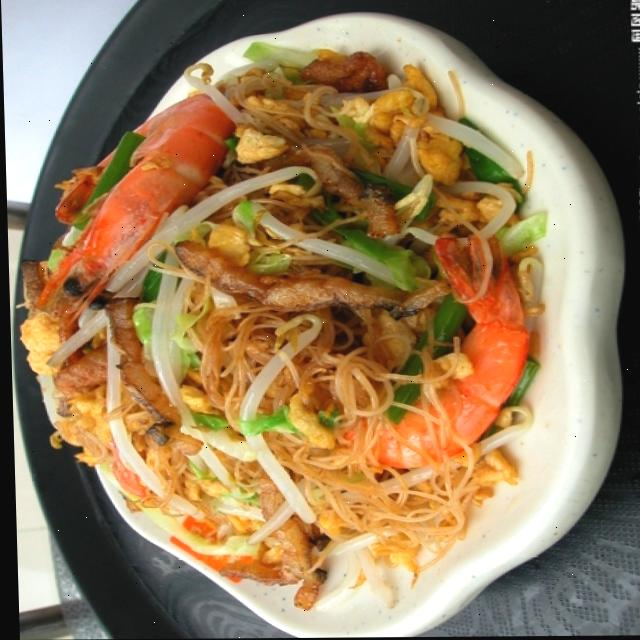面条主食: (22, 29, 588, 626)
